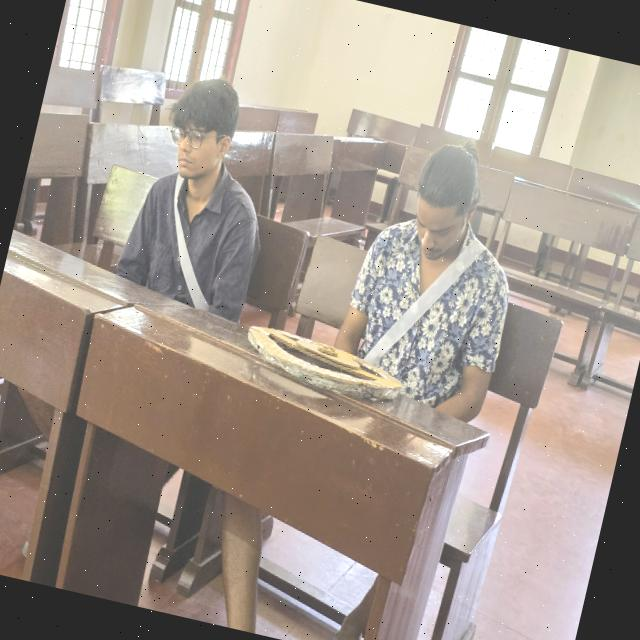seatbelt: (348, 227, 506, 383), (126, 162, 245, 308)
